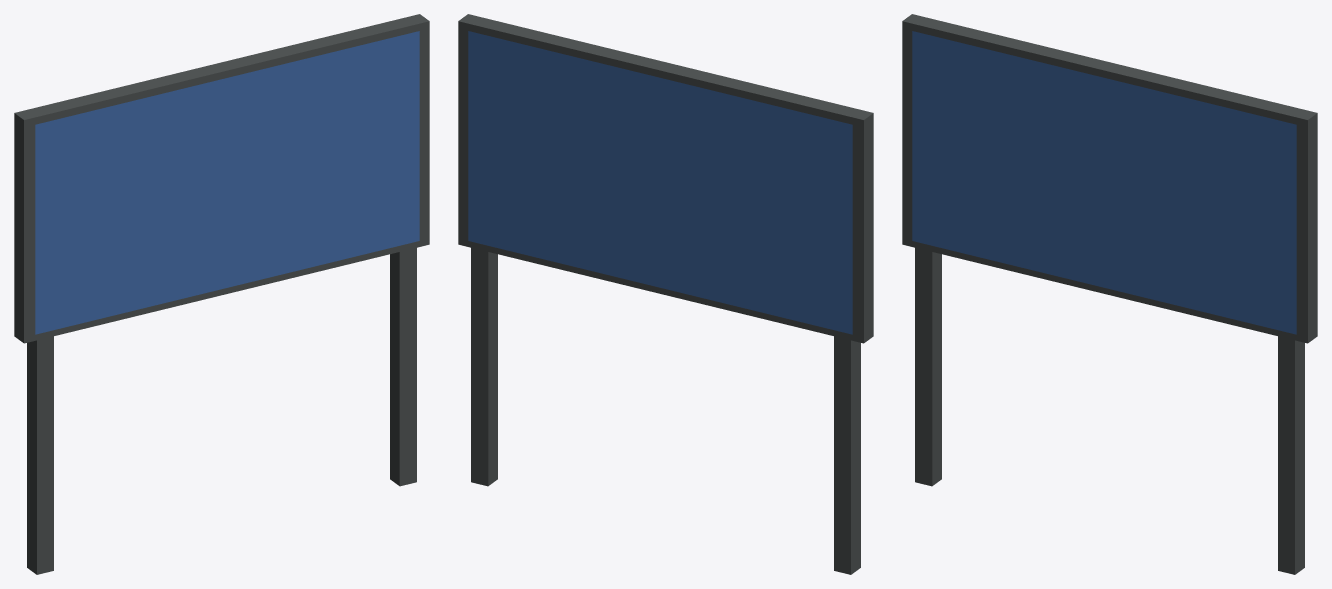
The model's file is sign_board.glb.
3 renders of one model, left to right at view 1: azimuth 30°, elevation 25°; view 2: azimuth 150°, elevation 25°; view 3: azimuth 330°, elevation 25°, orthographic.
Visible parts, largest first — view 1: sign_board; view 2: sign_board; view 3: sign_board.
Boxes of the visible parts, x1=… form: sign_board: x1=14, y1=14, x2=429, y2=574; sign_board: x1=458, y1=14, x2=873, y2=574; sign_board: x1=902, y1=14, x2=1317, y2=574.
Bounding box in the file's own units: 1.9 × 2.05 × 0.09.
